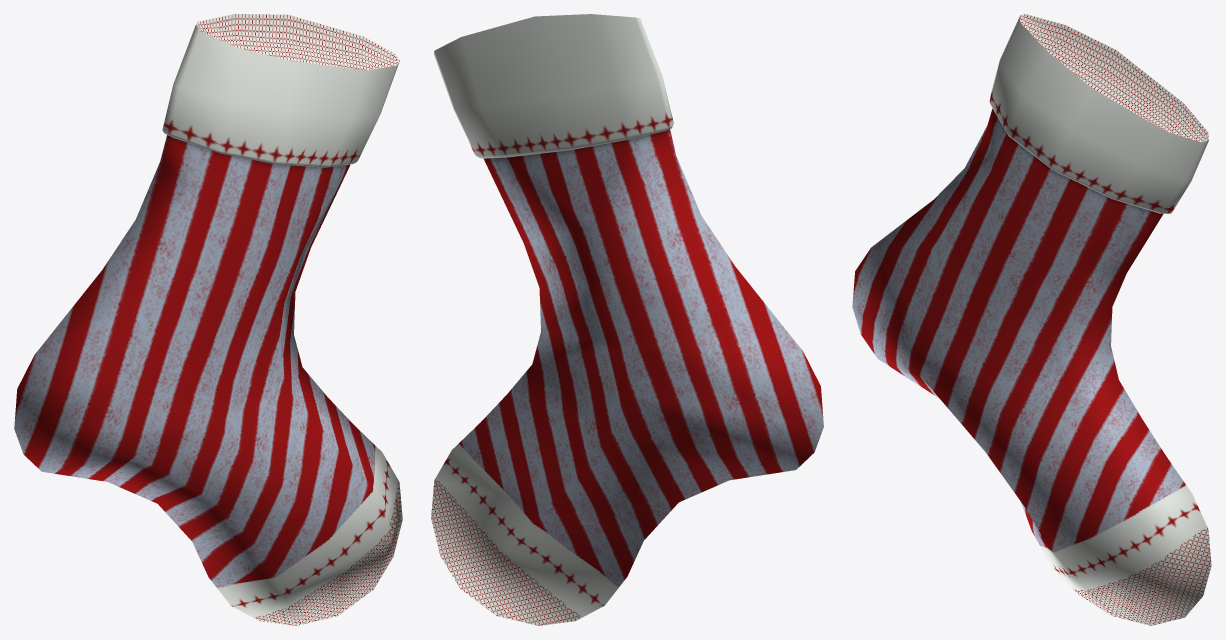
Rendered from socks-2.glb.
The picture shows the model from 3 angles, left to right: view 1: azimuth 30°, elevation 25°; view 2: azimuth 150°, elevation 25°; view 3: azimuth 330°, elevation 25°; orthographic projection. The views are drawn at different scales.
Parts seen in each view (by area): view 1: norvedem-sock; view 2: norvedem-sock; view 3: norvedem-sock.
Part boxes in pixels (<box>): norvedem-sock: <box>14,14,402,625</box>; norvedem-sock: <box>431,14,823,625</box>; norvedem-sock: <box>852,14,1211,625</box>.
Bounding box in the file's own units: 0.1716 × 0.2645 × 0.0366.
1 material, 1 textured.
